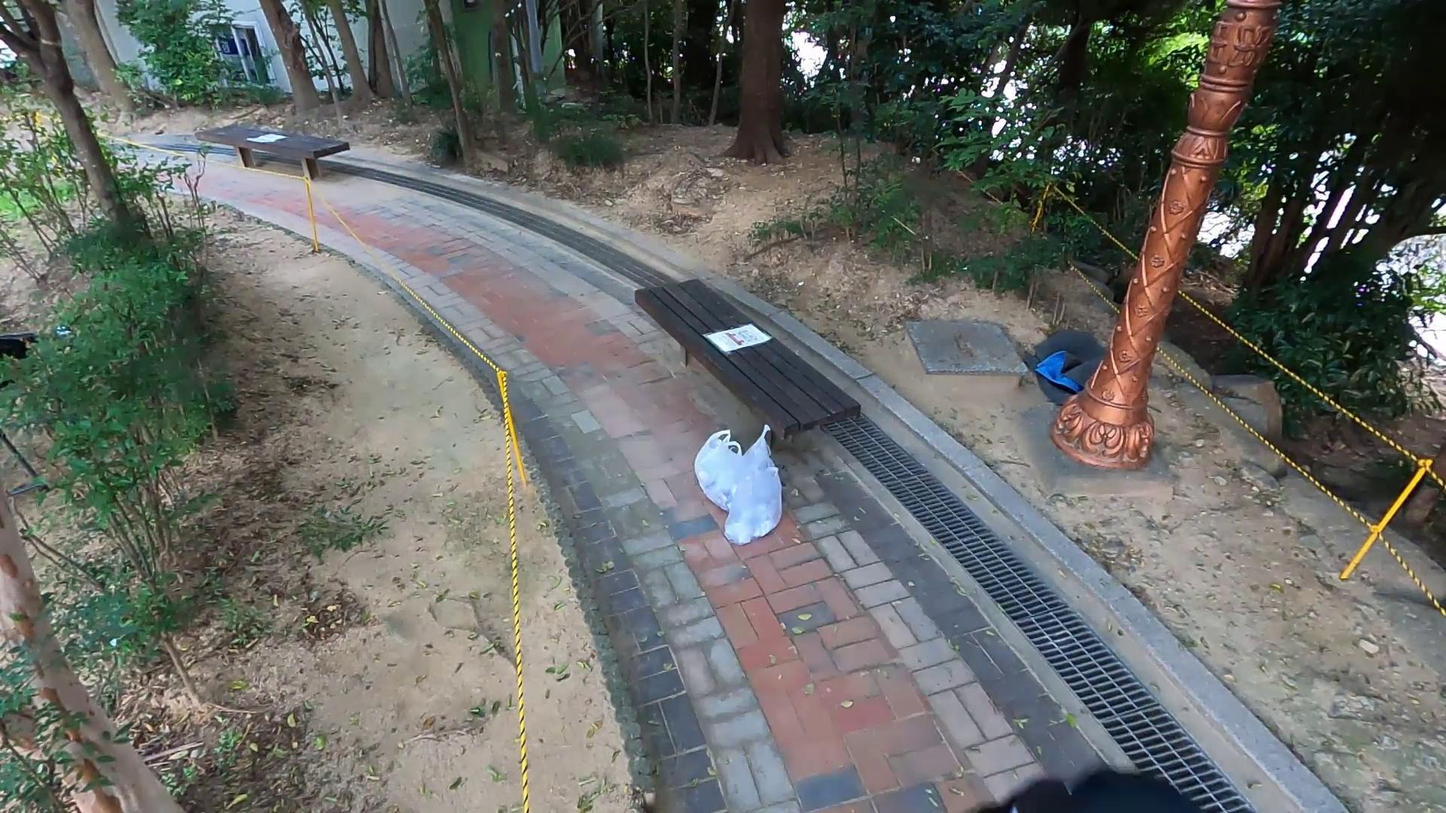trash: (1021, 329, 1109, 405), (722, 466, 783, 543), (695, 429, 738, 510), (740, 423, 774, 488)
